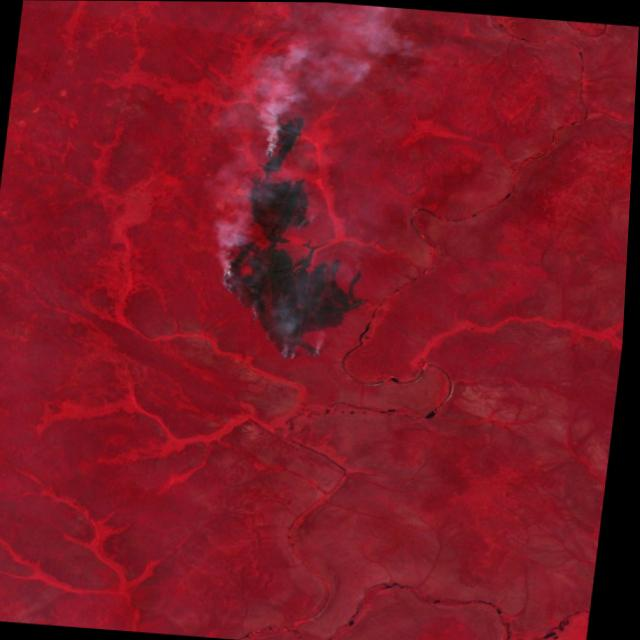fire: (194, 112, 364, 362)
